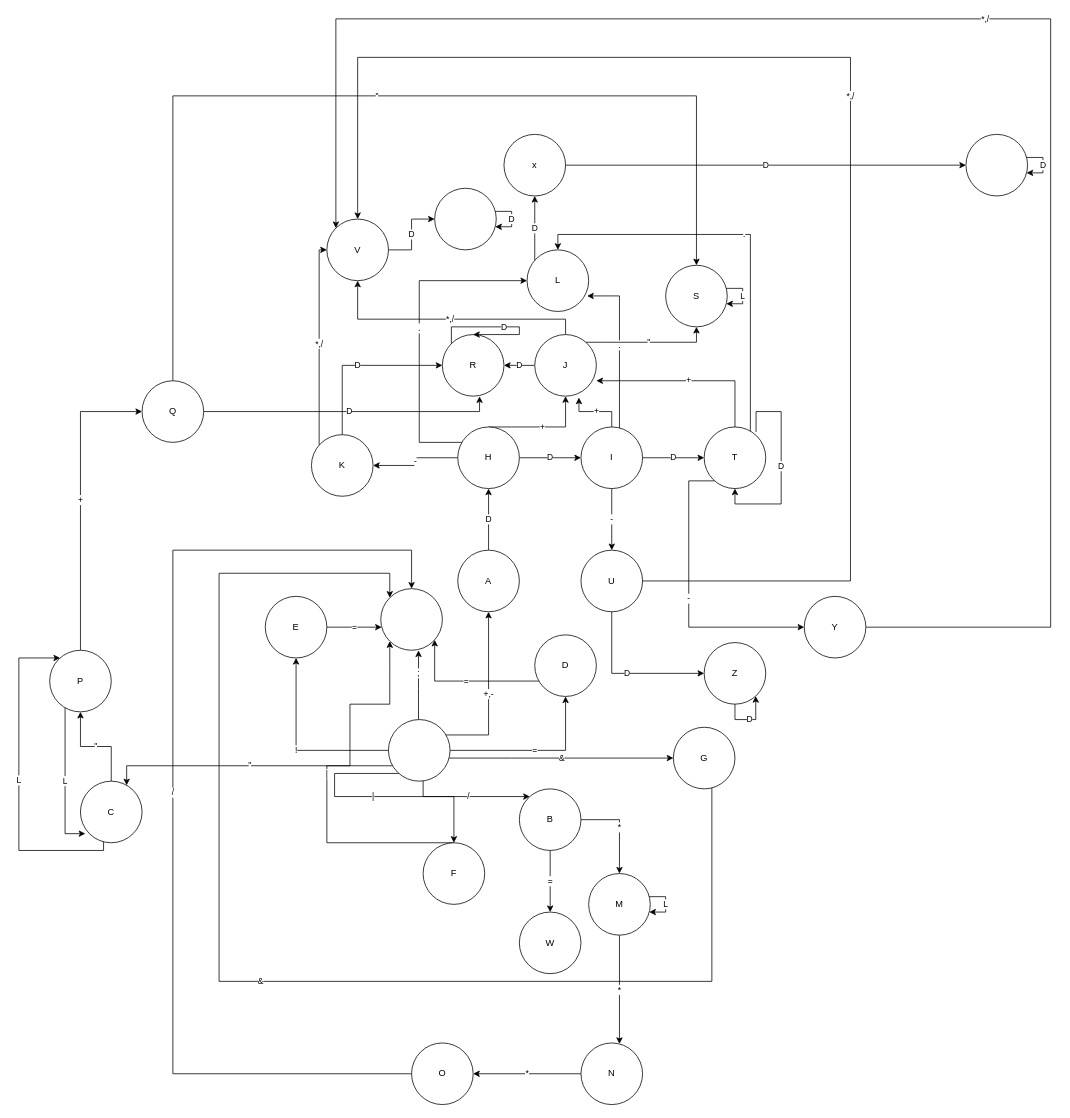
Some shapes in this 1070 by 1118 pixel diagram are drawn without their labels. The shapes that lost their labels are listed below. From the top down, each one's centre as x and y in pixels, then its label:
At point (996, 165): "C1".
At point (465, 218): "A1".
At point (411, 619): "D1".
At point (419, 750): "Q0".
